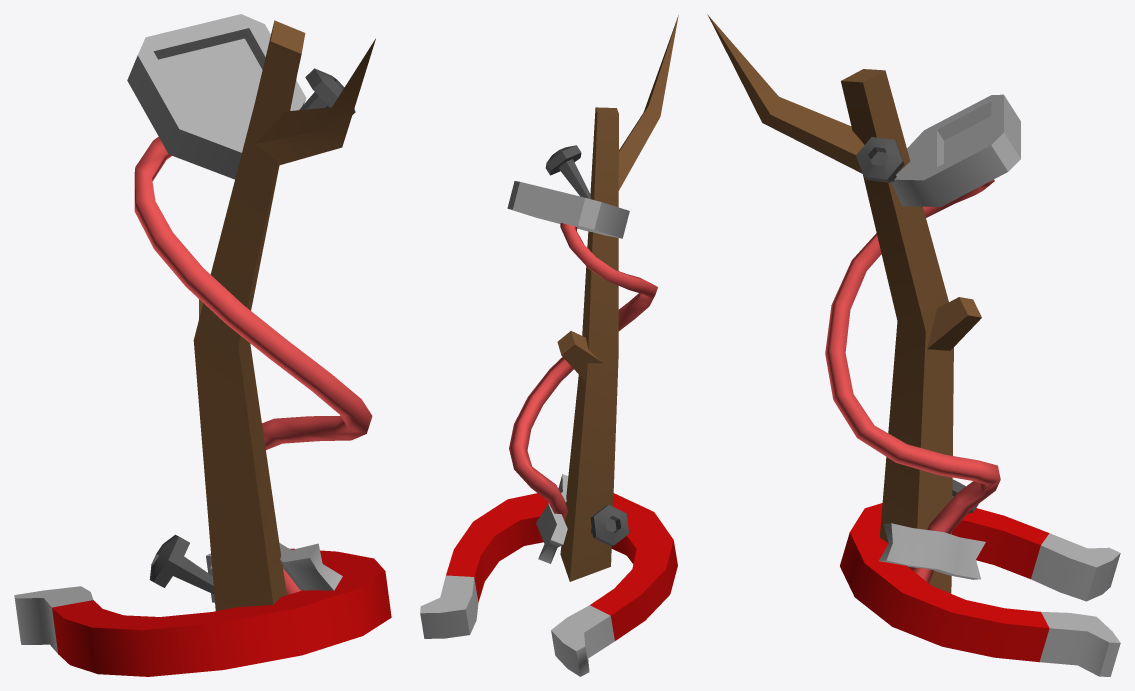
File: Mdl_Metal_Detector_recolour.fbx
3 views of the same model, side by side, from view 1: azimuth 30°, elevation 25°; view 2: azimuth 150°, elevation 25°; view 3: azimuth 270°, elevation 25° (orthographic). The views are drawn at different scales.
Visible parts, largest first — view 1: Mdl_Metal_Detector; view 2: Mdl_Metal_Detector; view 3: Mdl_Metal_Detector.
Part boxes in pixels (x1,y1,x2,y2): Mdl_Metal_Detector: (14,14,391,676); Mdl_Metal_Detector: (420,15,678,676); Mdl_Metal_Detector: (707,14,1120,676).
Bounding box in the file's own units: 3.75 × 9.64 × 5.88.
